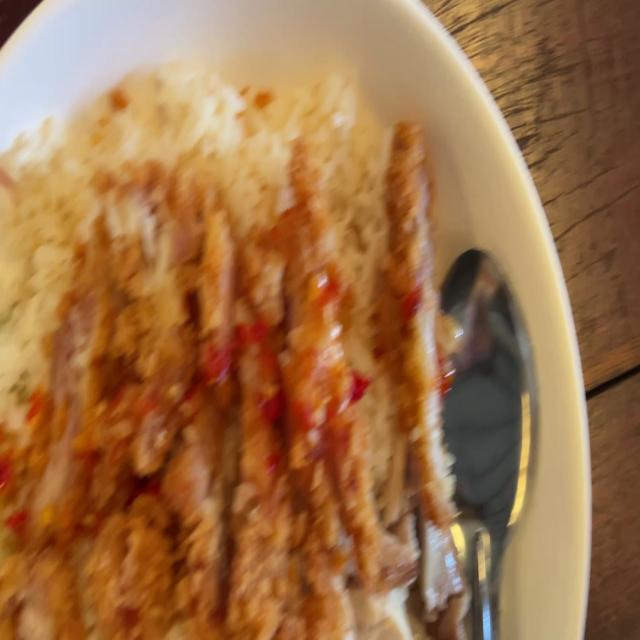chicken_rice: (0, 67, 447, 640)
fried_chicken: (53, 204, 399, 628), (382, 133, 445, 514)
